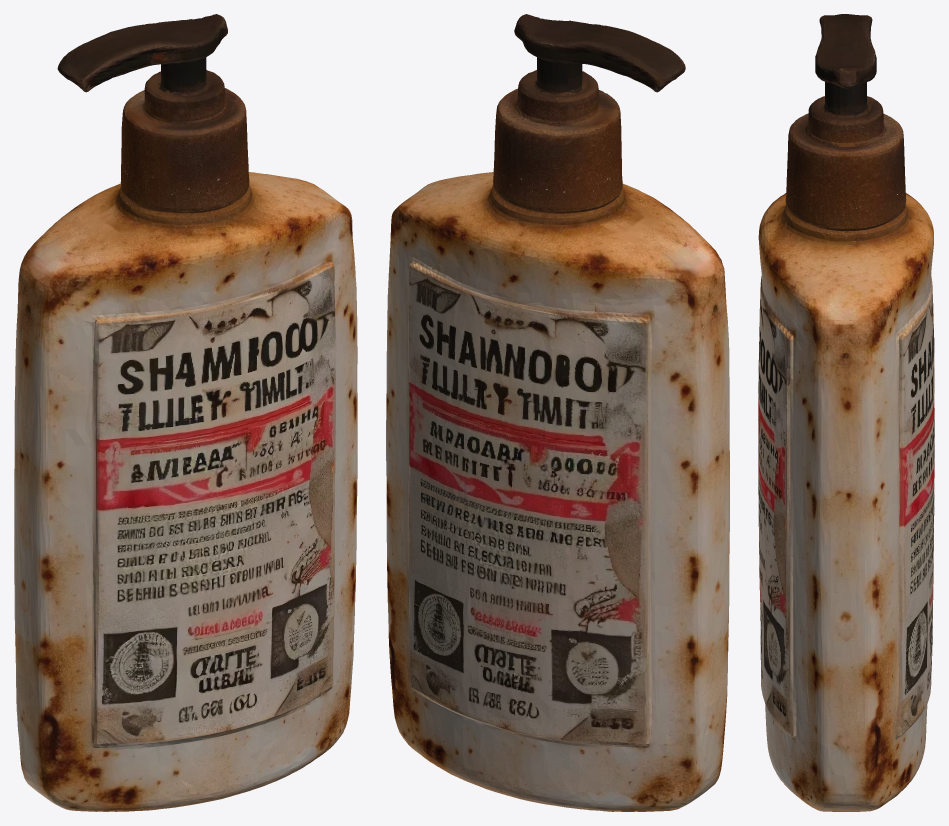
File: belly (285).glb
3 views of the same model, side by side, from view 1: azimuth 30°, elevation 25°; view 2: azimuth 150°, elevation 25°; view 3: azimuth 270°, elevation 25° (orthographic). The views are drawn at different scales.
Parts seen in each view (by area): view 1: Hy21_Mesh.obj; view 2: Hy21_Mesh.obj; view 3: Hy21_Mesh.obj.
Part boxes in pixels (x1=…): Hy21_Mesh.obj: x1=14, y1=14, x2=357, y2=811; Hy21_Mesh.obj: x1=386, y1=14, x2=729, y2=811; Hy21_Mesh.obj: x1=758, y1=14, x2=934, y2=811.
Size of the model in its own units: 0.8829 by 1.96 by 0.4444.
1 material, 1 textured.
